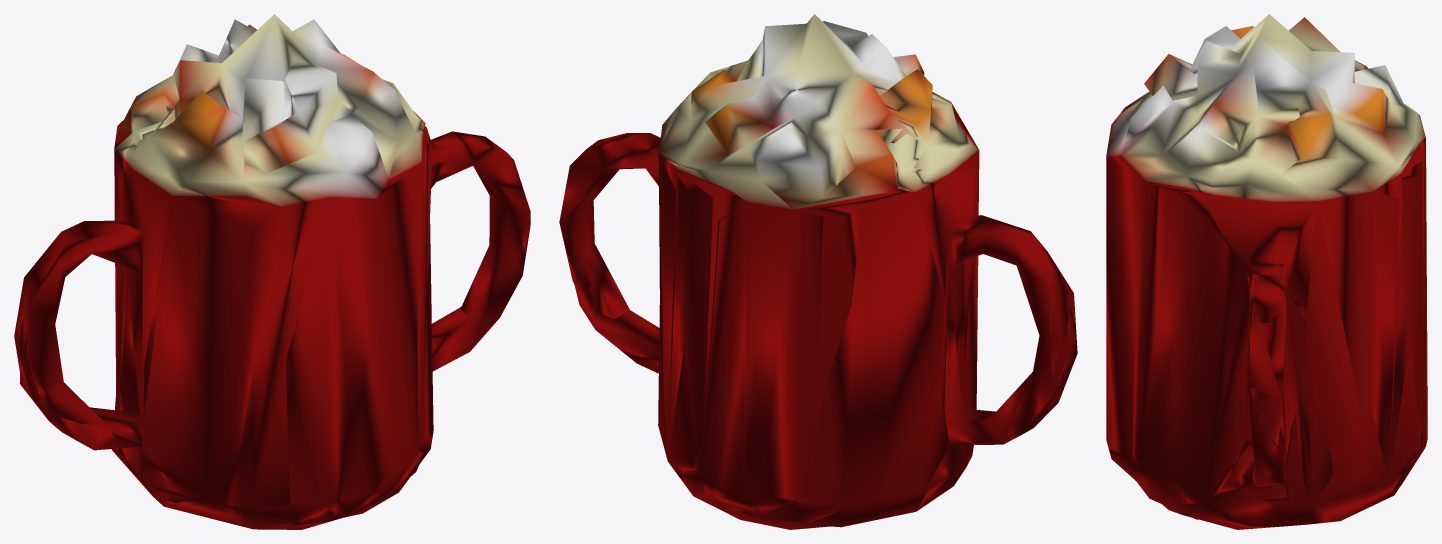
Rendered from gen3d-hot-cocoa-mug-lod1.glb.
3 views of the same model, side by side, from view 1: azimuth 30°, elevation 25°; view 2: azimuth 150°, elevation 25°; view 3: azimuth 270°, elevation 25° (orthographic).
Visible parts, largest first — view 1: part_0; view 2: part_0; view 3: part_0.
Part boxes in pixels (x1,y1,x2,y2): part_0: [14, 14, 530, 529]; part_0: [559, 14, 1077, 529]; part_0: [1106, 14, 1427, 529].
Size of the model in its own units: 1.12 by 0.9867 by 0.6136.
